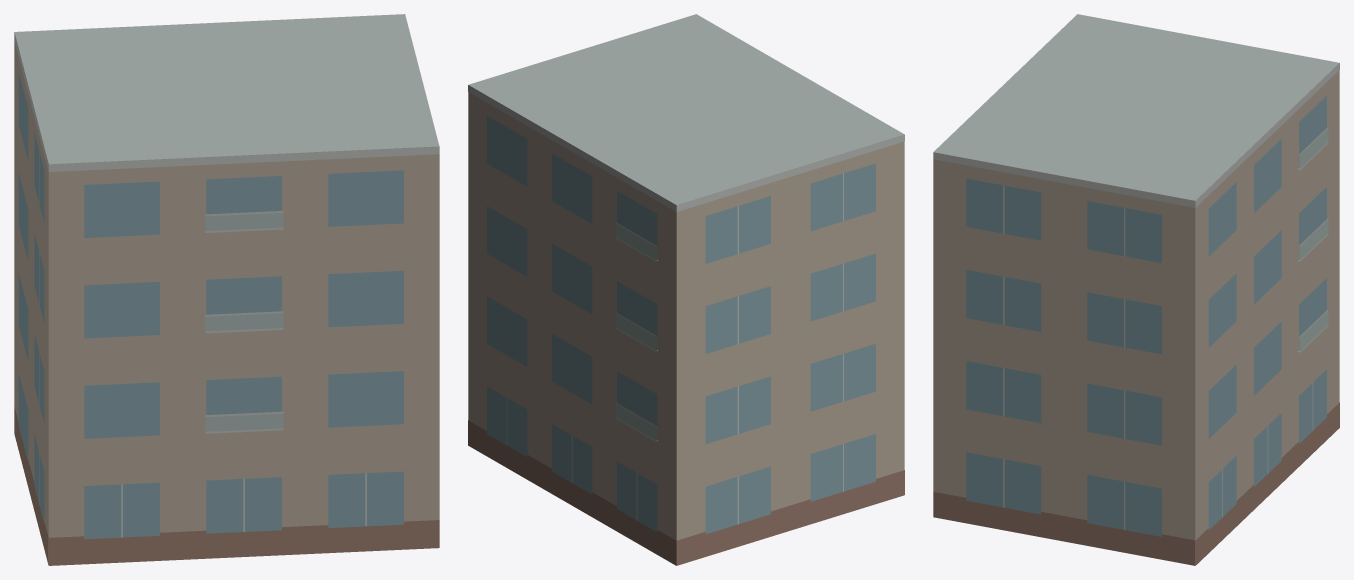
Rendered from survey-upis-32903071.glb.
3 renders of one model, left to right at view 1: azimuth 30°, elevation 25°; view 2: azimuth 150°, elevation 25°; view 3: azimuth 270°, elevation 25°, orthographic. The views are drawn at different scales.
Visible parts, largest first — view 1: survey-upis-32903071.tmp; view 2: survey-upis-32903071.tmp; view 3: survey-upis-32903071.tmp.
Boxes of the visible parts, x1=… form: survey-upis-32903071.tmp: x1=14, y1=14, x2=439, y2=565; survey-upis-32903071.tmp: x1=468, y1=14, x2=904, y2=565; survey-upis-32903071.tmp: x1=933, y1=14, x2=1339, y2=565.
Bounding box in the file's own units: 13.84 × 12.6 × 12.73.
